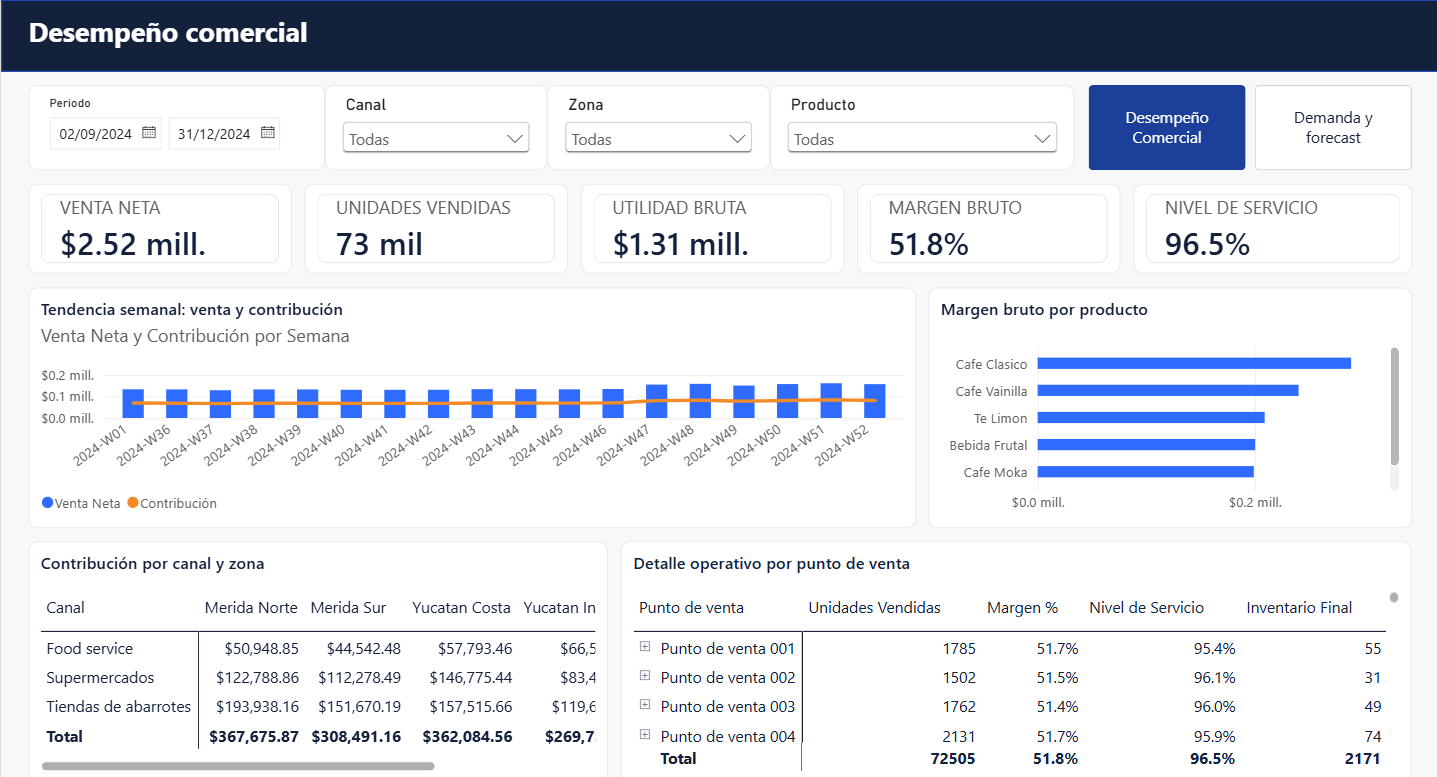

What the dashboard file says about the page in this screenshot:
{"tool":"powerbi","page":{"name":"Desempeño Comercial","canvas":[1280,720],"ordinal":0},"visuals":[{"type":"shape","box":[0,0,1280,64],"z":0},{"type":"textbox","box":[24,12,600,40],"z":100},{"type":"slicer","fields":{"Values":["DimDate.date"]},"box":[24.1,76,264.2,76],"z":1000},{"type":"slicer","fields":{"Values":["DimCustomer.channel"]},"box":[288.3,76,198,76],"z":1100},{"type":"slicer","fields":{"Values":["DimCustomer.zone"]},"box":[486.2,76,198,76],"z":1200},{"type":"slicer","fields":{"Values":["DimProduct.product"]},"box":[684.1,76,271.4,76],"z":1300},{"type":"pageNavigator","box":[968,76,288,76],"z":1400},{"type":"cardVisual","fields":{"Data":["Medidas.Venta Neta"]},"box":[24,164,234,80],"z":2000},{"type":"cardVisual","fields":{"Data":["Medidas.Unidades Vendidas"]},"box":[270,164,234,80],"z":2100},{"type":"cardVisual","fields":{"Data":["Medidas.Contribución"]},"box":[516,164,234,80],"z":2200},{"type":"cardVisual","fields":{"Data":["Medidas.Margen %"]},"box":[762,164,234,80],"z":2300},{"type":"cardVisual","fields":{"Data":["Medidas.Nivel de Servicio"]},"box":[1008,164,248,80],"z":2400},{"type":"lineClusteredColumnComboChart","title":"Tendencia semanal: venta y contribución","fields":{"Category":["DimDate.year_week"],"Y":["Medidas.Venta Neta"],"Y2":["Medidas.Contribución"]},"box":[24,256,790,214],"z":3000},{"type":"clusteredBarChart","title":"Margen bruto por producto","fields":{"Category":["DimProduct.product"],"Y":["Medidas.Contribución"]},"box":[826,256,430,214],"z":3100},{"type":"pivotTable","title":"Contribución por canal y zona","fields":{"Columns":["DimCustomer.zone"],"Rows":["DimCustomer.channel"],"Values":["Medidas.Contribución"]},"box":[24,482,516,214],"z":4000},{"type":"pivotTable","title":"Detalle operativo por punto de venta","fields":{"Rows":["DimCustomer.point_of_sale","DimProduct.product"],"Values":["Medidas.Unidades Vendidas","Medidas.Margen %","Medidas.Nivel de Servicio","Medidas.Inventario Final"]},"box":[552,482,704,214],"z":4100}]}

Visuals, with their boxes on the page's 1280x720 design canvas (x1, y1, x2, y2). These are canvas units, not pixel positions in the 1437x777 screenshot, which may show the page scaled, cropped or inside an application window:
shape: (0,0,1280,64)
textbox: (24,12,624,52)
slicer - DimDate.date: (24,76,288,152)
slicer - DimCustomer.channel: (288,76,486,152)
slicer - DimCustomer.zone: (486,76,684,152)
slicer - DimProduct.product: (684,76,956,152)
pageNavigator: (968,76,1256,152)
cardVisual - Medidas.Venta Neta: (24,164,258,244)
cardVisual - Medidas.Unidades Vendidas: (270,164,504,244)
cardVisual - Medidas.Contribución: (516,164,750,244)
cardVisual - Medidas.Margen %: (762,164,996,244)
cardVisual - Medidas.Nivel de Servicio: (1008,164,1256,244)
"Tendencia semanal: venta y contribución" lineClusteredColumnComboChart: (24,256,814,470)
"Margen bruto por producto" clusteredBarChart: (826,256,1256,470)
"Contribución por canal y zona" pivotTable: (24,482,540,696)
"Detalle operativo por punto de venta" pivotTable: (552,482,1256,696)
